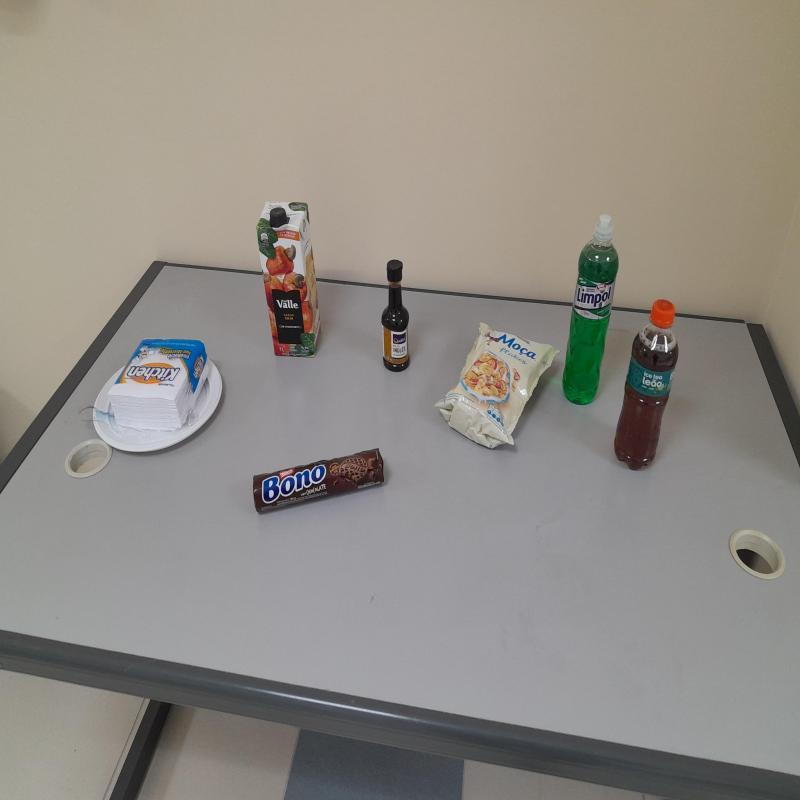Cleaner: (563, 215, 622, 404)
Cookies: (254, 451, 388, 519)
CornFlakes: (435, 320, 557, 456)
EnglishSauce: (379, 260, 410, 376)
IceTea: (616, 300, 679, 471)
